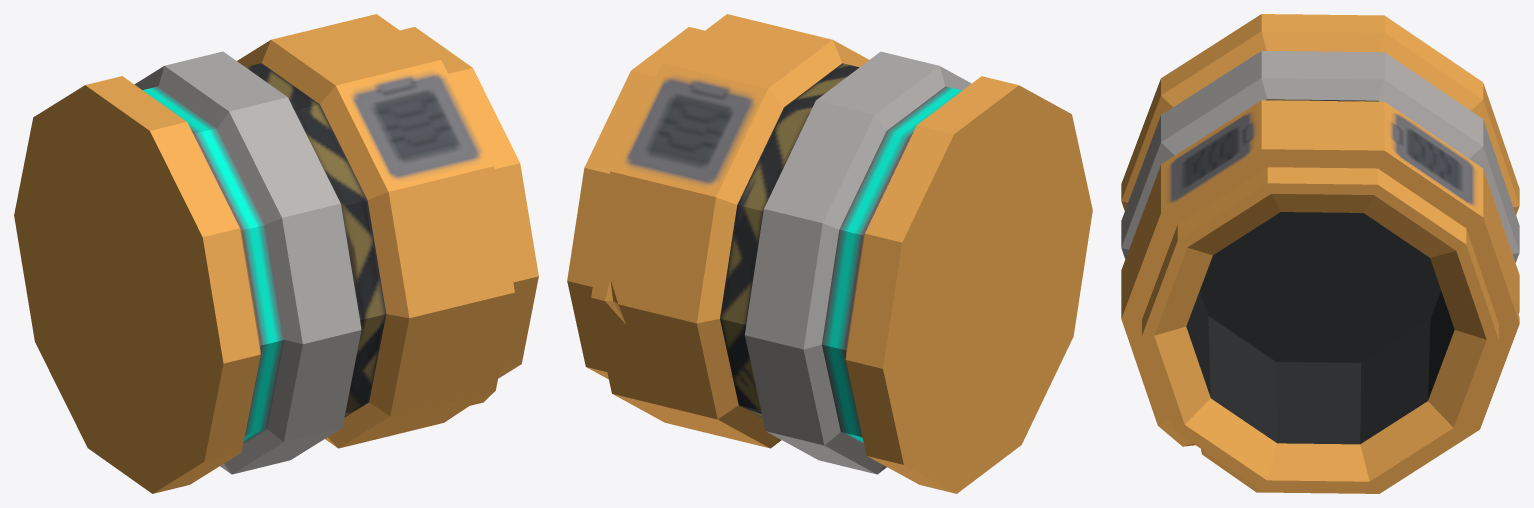
Rendered from SM_Bld_Pipe_Large_End_01.fbx.
3 views of the same model, side by side, from view 1: azimuth 30°, elevation 25°; view 2: azimuth 150°, elevation 25°; view 3: azimuth 270°, elevation 25° (orthographic). The views are drawn at different scales.
Visible parts, largest first — view 1: SM_Bld_Pipe_Large_End_01; view 2: SM_Bld_Pipe_Large_End_01; view 3: SM_Bld_Pipe_Large_End_01.
Boxes of the visible parts, box(x1,y1,x2,y2) form: SM_Bld_Pipe_Large_End_01: box(14, 14, 538, 493); SM_Bld_Pipe_Large_End_01: box(567, 14, 1092, 493); SM_Bld_Pipe_Large_End_01: box(1121, 14, 1519, 493).
Size of the model in its own units: 106 by 112 by 117.
